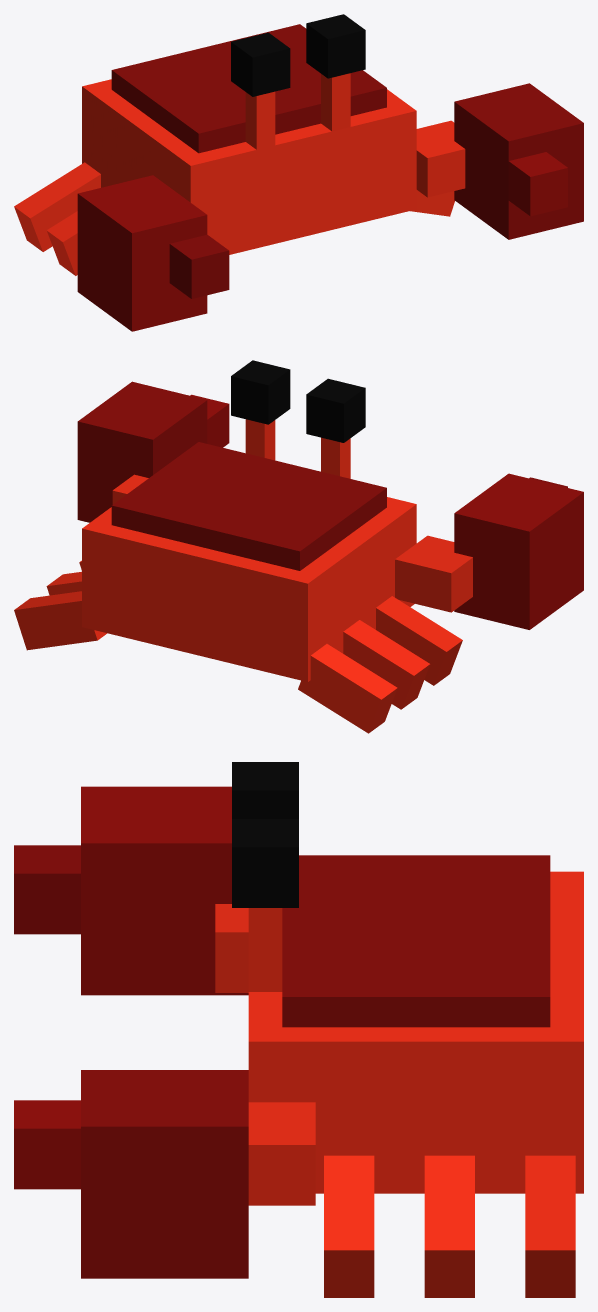
Rendered from reef_crab_blockbench.three-web-toon.glb.
3 views of the same model, one above another, from view 1: azimuth 30°, elevation 25°; view 2: azimuth 150°, elevation 25°; view 3: azimuth 270°, elevation 25° (orthographic). The views are drawn at different scales.
Parts seen in each view (by area): view 1: body, claw_-1, shell_top, claw_1, leg_-1_2, pincer_-1, arm_1, eye_1, eye_-1, pincer_1, eyestalk_-1, eyestalk_1 (+2 smaller); view 2: body, shell_top, claw_-1, claw_1, leg_-1_2, arm_-1, leg_-1_1, leg_-1_0, leg_1_2, eye_-1, eye_1, eyestalk_1 (+3 smaller); view 3: body, shell_top, claw_1, claw_-1, leg_1_2, leg_1_0, leg_1_1, arm_1, pincer_1, pincer_-1, eye_1, eye_-1 (+2 smaller).
Part boxes in pixels (x1,y1,x2,y2): body: (82,79,416,254); claw_-1: (77,175,207,331); shell_top: (111,24,386,153); claw_1: (454,83,583,239); leg_-1_2: (14,162,100,251); pincer_-1: (169,234,229,298); arm_1: (416,120,465,197); eye_1: (306,14,365,78); eye_-1: (231,32,290,96); pincer_1: (508,152,567,216); eyestalk_-1: (245,91,275,149); eyestalk_1: (321,73,350,131); body: (82,497,416,681); shell_top: (111,442,386,570); claw_-1: (454,473,583,629); claw_1: (77,381,207,522); leg_-1_2: (298,644,397,733); arm_-1: (395,535,472,612); leg_-1_1: (343,620,430,709); leg_-1_0: (376,596,462,685); leg_1_2: (14,591,106,650); eye_-1: (306,378,365,442); eye_1: (231,360,290,424); eyestalk_1: (245,419,275,460); body: (248,871,583,1193); shell_top: (282,855,550,1027); claw_1: (81,1070,248,1278); claw_-1: (81,786,248,995); leg_1_2: (525,1155,575,1297); leg_1_0: (324,1155,374,1297); leg_1_1: (424,1155,474,1297); arm_1: (248,1102,315,1205); pincer_1: (14,1100,80,1189); pincer_-1: (14,845,80,934); eye_1: (232,819,298,907); eye_-1: (232,762,298,818).
Bounding box in the file's own units: 1.5 × 0.7498 × 1.06.
